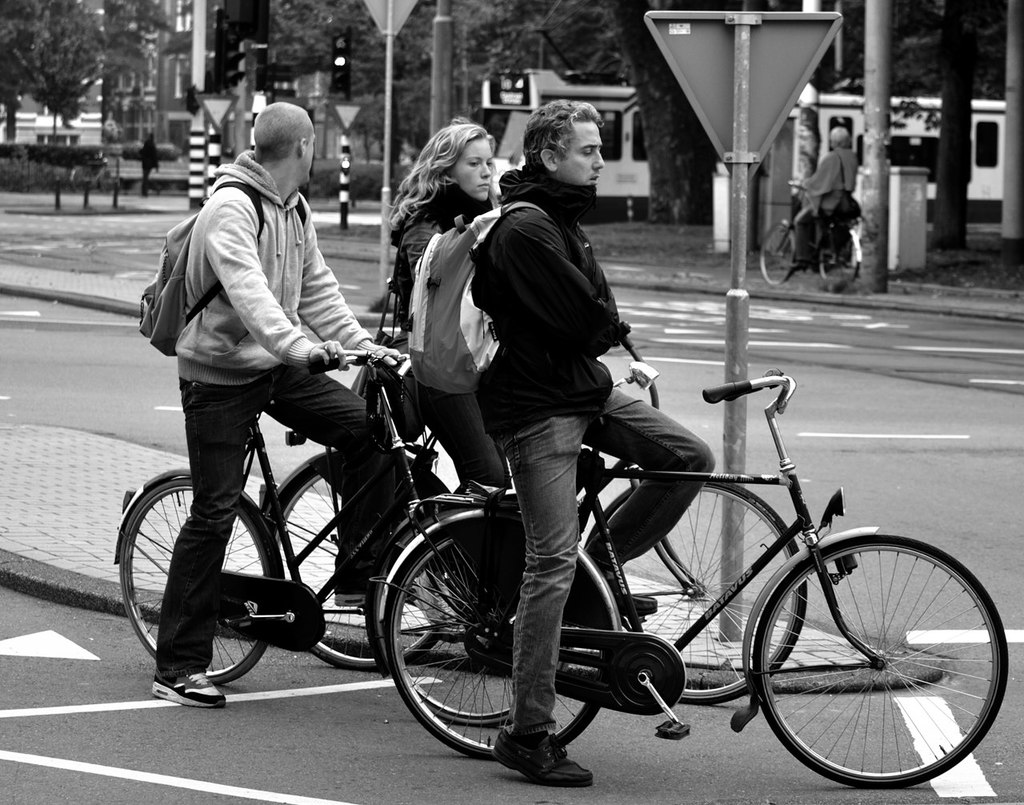Bike: (365, 374, 1011, 787), (128, 346, 529, 742)
